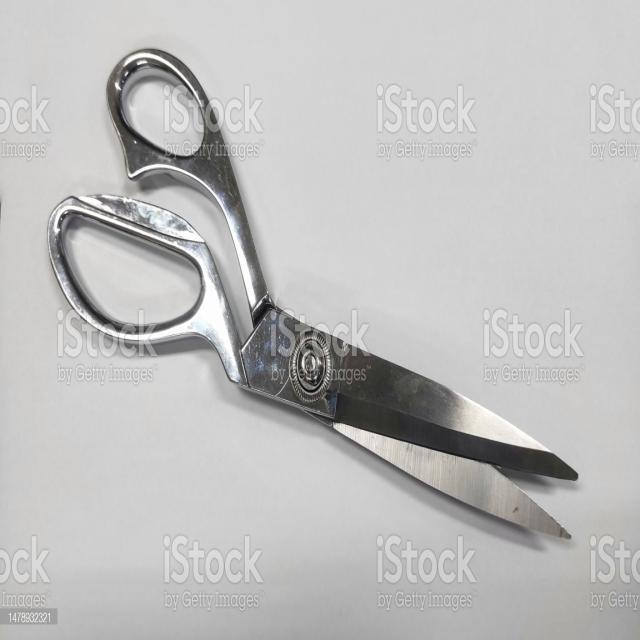scissor: (42, 49, 582, 544)
